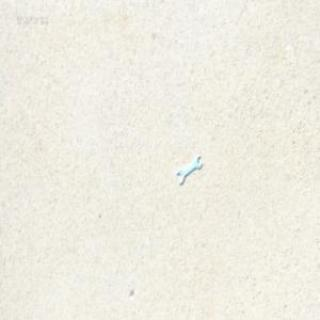Wrenchtrack_idkeyframe: (175, 152, 201, 182)
